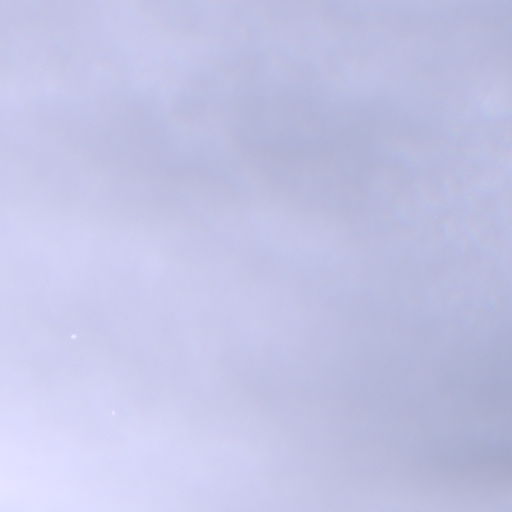Iceberg: (72, 335, 76, 337), (112, 411, 114, 414)
